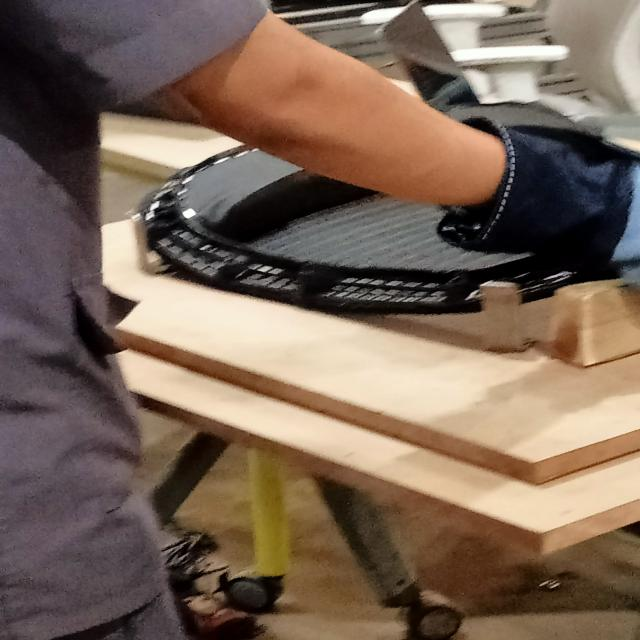Gloves-Detection: (457, 96, 640, 277)
